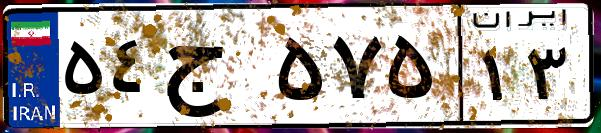1: (475, 38, 525, 113)
3: (525, 38, 570, 115)
4: (110, 28, 158, 98)
5: (270, 28, 330, 110), (385, 28, 445, 110), (57, 26, 110, 100)
7: (330, 28, 385, 110)
ج: (158, 20, 270, 120)
